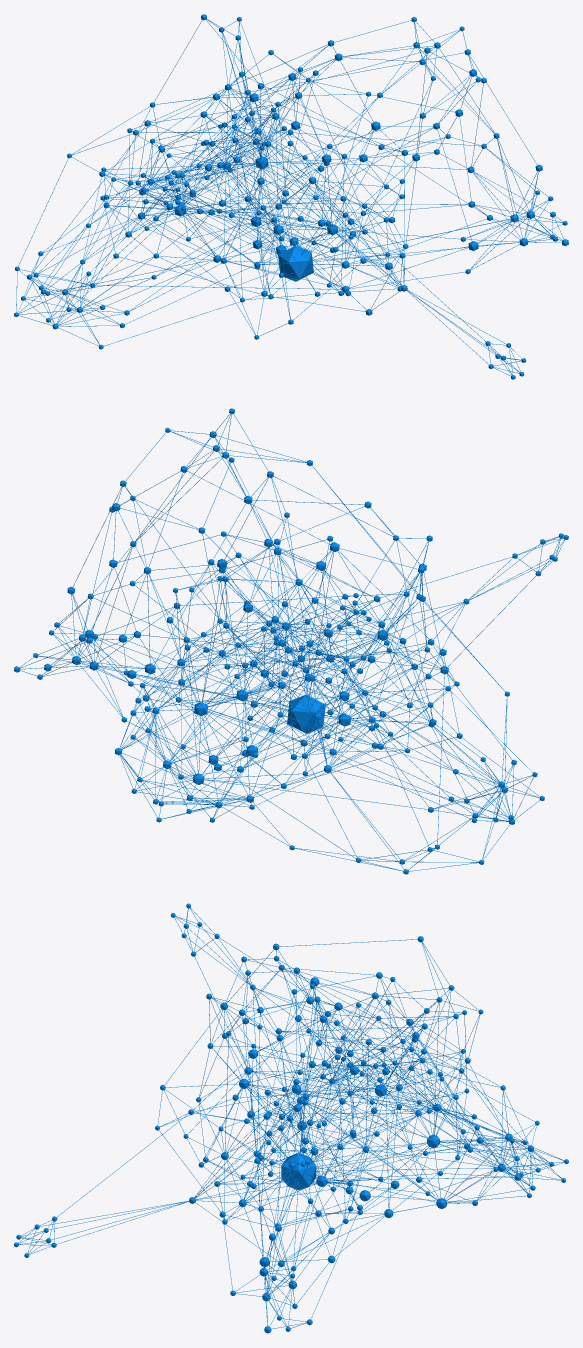
3 renders of one model, top to bottom at view 1: azimuth 30°, elevation 25°; view 2: azimuth 150°, elevation 25°; view 3: azimuth 270°, elevation 25°, orthographic. The views are drawn at different scales.
Visible parts, largest first — view 1: k-core4d; view 2: k-core4d; view 3: k-core4d.
Part boxes in pixels (x1,y1,x2,y2): k-core4d: [14, 14, 568, 379]; k-core4d: [14, 408, 568, 874]; k-core4d: [14, 903, 568, 1333].
Bounding box in the file's own units: 3587 × 2082 × 3360.
